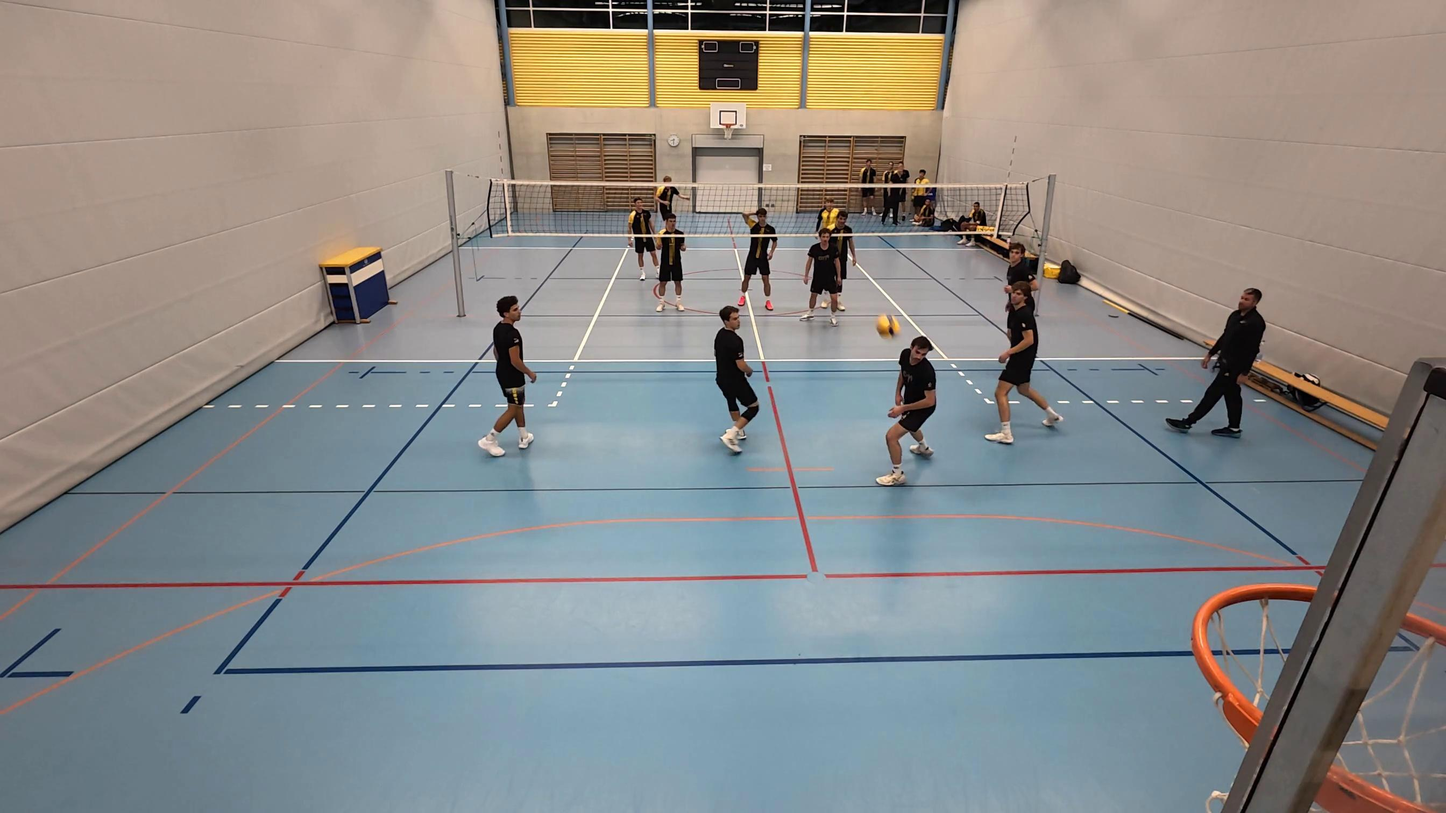Player: (986, 283, 1061, 444), (875, 334, 939, 487), (478, 295, 537, 457), (713, 306, 760, 453), (736, 208, 778, 312), (801, 228, 844, 326), (825, 204, 857, 312), (653, 215, 687, 312), (626, 196, 657, 281), (655, 174, 679, 226)
ball: (874, 315, 896, 336)
